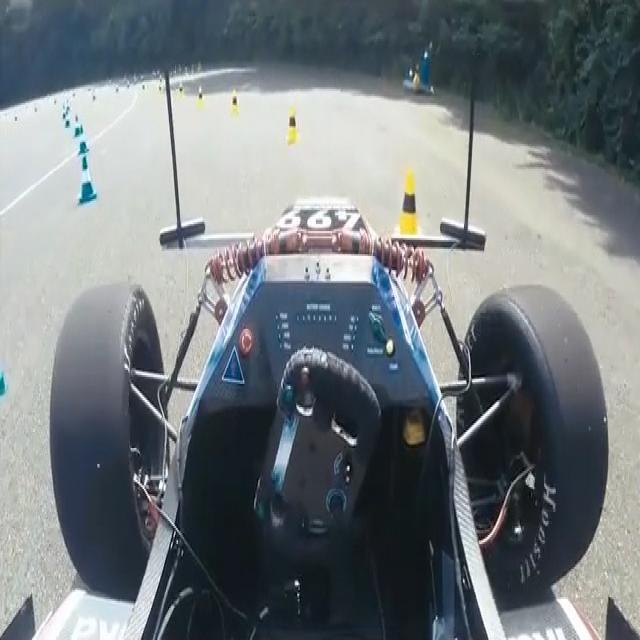blue_cone: (78, 153, 98, 205), (0, 358, 9, 396), (78, 125, 89, 154), (73, 115, 81, 137)
yellow_cone: (396, 168, 424, 255), (286, 106, 300, 144), (230, 87, 240, 115)
